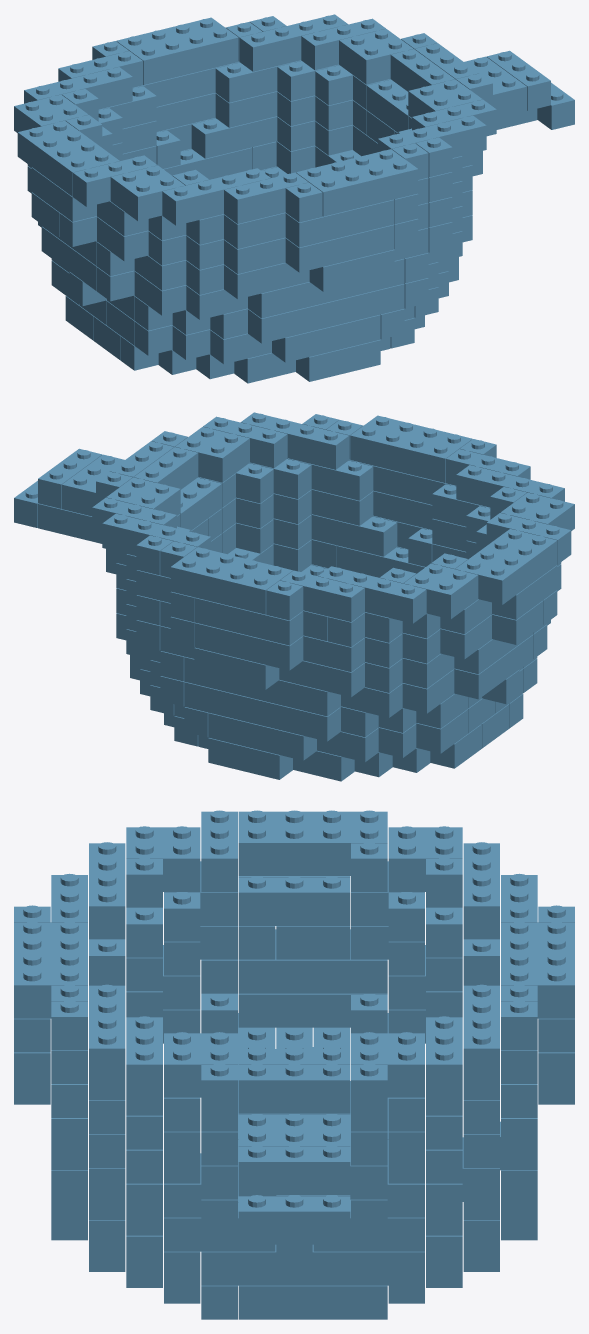
The model's file is 181_mug_L1.glb.
The picture shows the model from 3 angles, top to bottom: view 1: azimuth 30°, elevation 25°; view 2: azimuth 150°, elevation 25°; view 3: azimuth 270°, elevation 25°; orthographic projection. The views are drawn at different scales.
Bounding box in the file's own units: 20.98 × 8.13 × 14.98.
